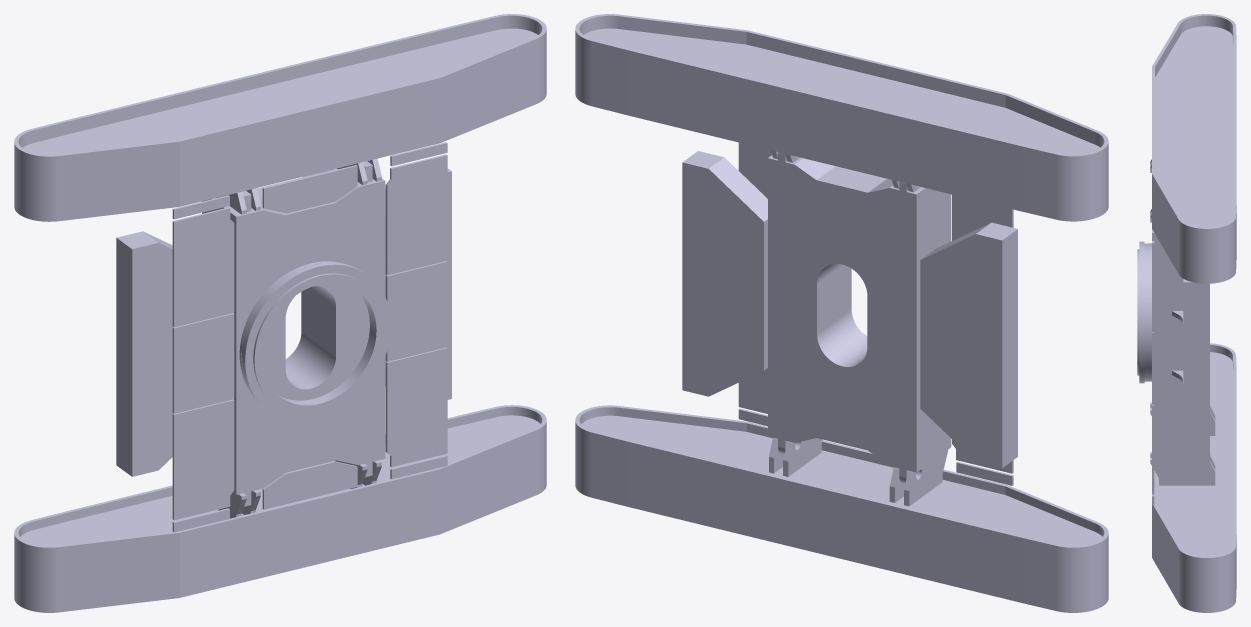
File: scx3500_bottom.obj
3 renders of one model, left to right at view 1: azimuth 30°, elevation 25°; view 2: azimuth 150°, elevation 25°; view 3: azimuth 270°, elevation 25°, orthographic. The views are drawn at different scales.
Parts seen in each view (by area): view 1: SCX3500-3_CRAWLER_L_000_1-HSC_SCX3500-3_CRAWLER_L007 (Meshed), SCX3500-3_CRAWLER_R_000_1-HSC_SCX3500-3_CRAWLER_R007 (Meshed), SCX3500-3_LWST_000_1-HSC_SCX3500-3_LWST012 (Meshed), SCX3500-3_CARBODY_000_1-HSC_SCX3500-3_CARBODY006 (Meshed), SCX3500-3_LWT_1_000_1-HSC_SCX3500-3_LWT003 (Meshed), SCX3500-3_TTB_000_1-HSC_SCX3500-3_TTB003 (Meshed), SCX3500-3_LWT_000_1-HSC_SCX3500-3_LWT003 (Meshed); view 2: SCX3500-3_CRAWLER_L_000_1-HSC_SCX3500-3_CRAWLER_L007 (Meshed), SCX3500-3_CRAWLER_R_000_1-HSC_SCX3500-3_CRAWLER_R007 (Meshed), SCX3500-3_CARBODY_000_1-HSC_SCX3500-3_CARBODY006 (Meshed), SCX3500-3_LWT_1_000_1-HSC_SCX3500-3_LWT003 (Meshed), SCX3500-3_LWT_000_1-HSC_SCX3500-3_LWT003 (Meshed), SCX3500-3_LWST_000_1-HSC_SCX3500-3_LWST012 (Meshed); view 3: SCX3500-3_CRAWLER_L_000_1-HSC_SCX3500-3_CRAWLER_L007 (Meshed), SCX3500-3_CRAWLER_R_000_1-HSC_SCX3500-3_CRAWLER_R007 (Meshed), SCX3500-3_CARBODY_000_1-HSC_SCX3500-3_CARBODY006 (Meshed), SCX3500-3_LWT_000_1-HSC_SCX3500-3_LWT003 (Meshed), SCX3500-3_TTB_000_1-HSC_SCX3500-3_TTB003 (Meshed), SCX3500-3_LWST_000_1-HSC_SCX3500-3_LWST012 (Meshed).
Part boxes in pixels (bbox=[...]): SCX3500-3_CRAWLER_L_000_1-HSC_SCX3500-3_CRAWLER_L007 (Meshed): bbox=[14, 14, 546, 221]; SCX3500-3_CRAWLER_R_000_1-HSC_SCX3500-3_CRAWLER_R007 (Meshed): bbox=[14, 405, 546, 612]; SCX3500-3_LWST_000_1-HSC_SCX3500-3_LWST012 (Meshed): bbox=[172, 142, 447, 532]; SCX3500-3_CARBODY_000_1-HSC_SCX3500-3_CARBODY006 (Meshed): bbox=[202, 161, 385, 506]; SCX3500-3_LWT_1_000_1-HSC_SCX3500-3_LWT003 (Meshed): bbox=[116, 231, 173, 476]; SCX3500-3_TTB_000_1-HSC_SCX3500-3_TTB003 (Meshed): bbox=[241, 262, 390, 421]; SCX3500-3_LWT_000_1-HSC_SCX3500-3_LWT003 (Meshed): bbox=[385, 168, 451, 399]; SCX3500-3_CRAWLER_L_000_1-HSC_SCX3500-3_CRAWLER_L007 (Meshed): bbox=[575, 14, 1108, 221]; SCX3500-3_CRAWLER_R_000_1-HSC_SCX3500-3_CRAWLER_R007 (Meshed): bbox=[575, 405, 1108, 612]; SCX3500-3_CARBODY_000_1-HSC_SCX3500-3_CARBODY006 (Meshed): bbox=[768, 152, 951, 483]; SCX3500-3_LWT_1_000_1-HSC_SCX3500-3_LWT003 (Meshed): bbox=[920, 222, 1017, 468]; SCX3500-3_LWT_000_1-HSC_SCX3500-3_LWT003 (Meshed): bbox=[682, 151, 767, 396]; SCX3500-3_LWST_000_1-HSC_SCX3500-3_LWST012 (Meshed): bbox=[738, 142, 1013, 485]; SCX3500-3_CRAWLER_L_000_1-HSC_SCX3500-3_CRAWLER_L007 (Meshed): bbox=[1150, 14, 1236, 283]; SCX3500-3_CRAWLER_R_000_1-HSC_SCX3500-3_CRAWLER_R007 (Meshed): bbox=[1150, 343, 1236, 612]; SCX3500-3_CARBODY_000_1-HSC_SCX3500-3_CARBODY006 (Meshed): bbox=[1148, 233, 1183, 459]; SCX3500-3_LWT_000_1-HSC_SCX3500-3_LWT003 (Meshed): bbox=[1172, 279, 1209, 473]; SCX3500-3_TTB_000_1-HSC_SCX3500-3_TTB003 (Meshed): bbox=[1137, 241, 1148, 383]; SCX3500-3_LWST_000_1-HSC_SCX3500-3_LWST012 (Meshed): bbox=[1152, 229, 1154, 504].
Size of the model in its own units: 10500 by 8750 by 2050.
